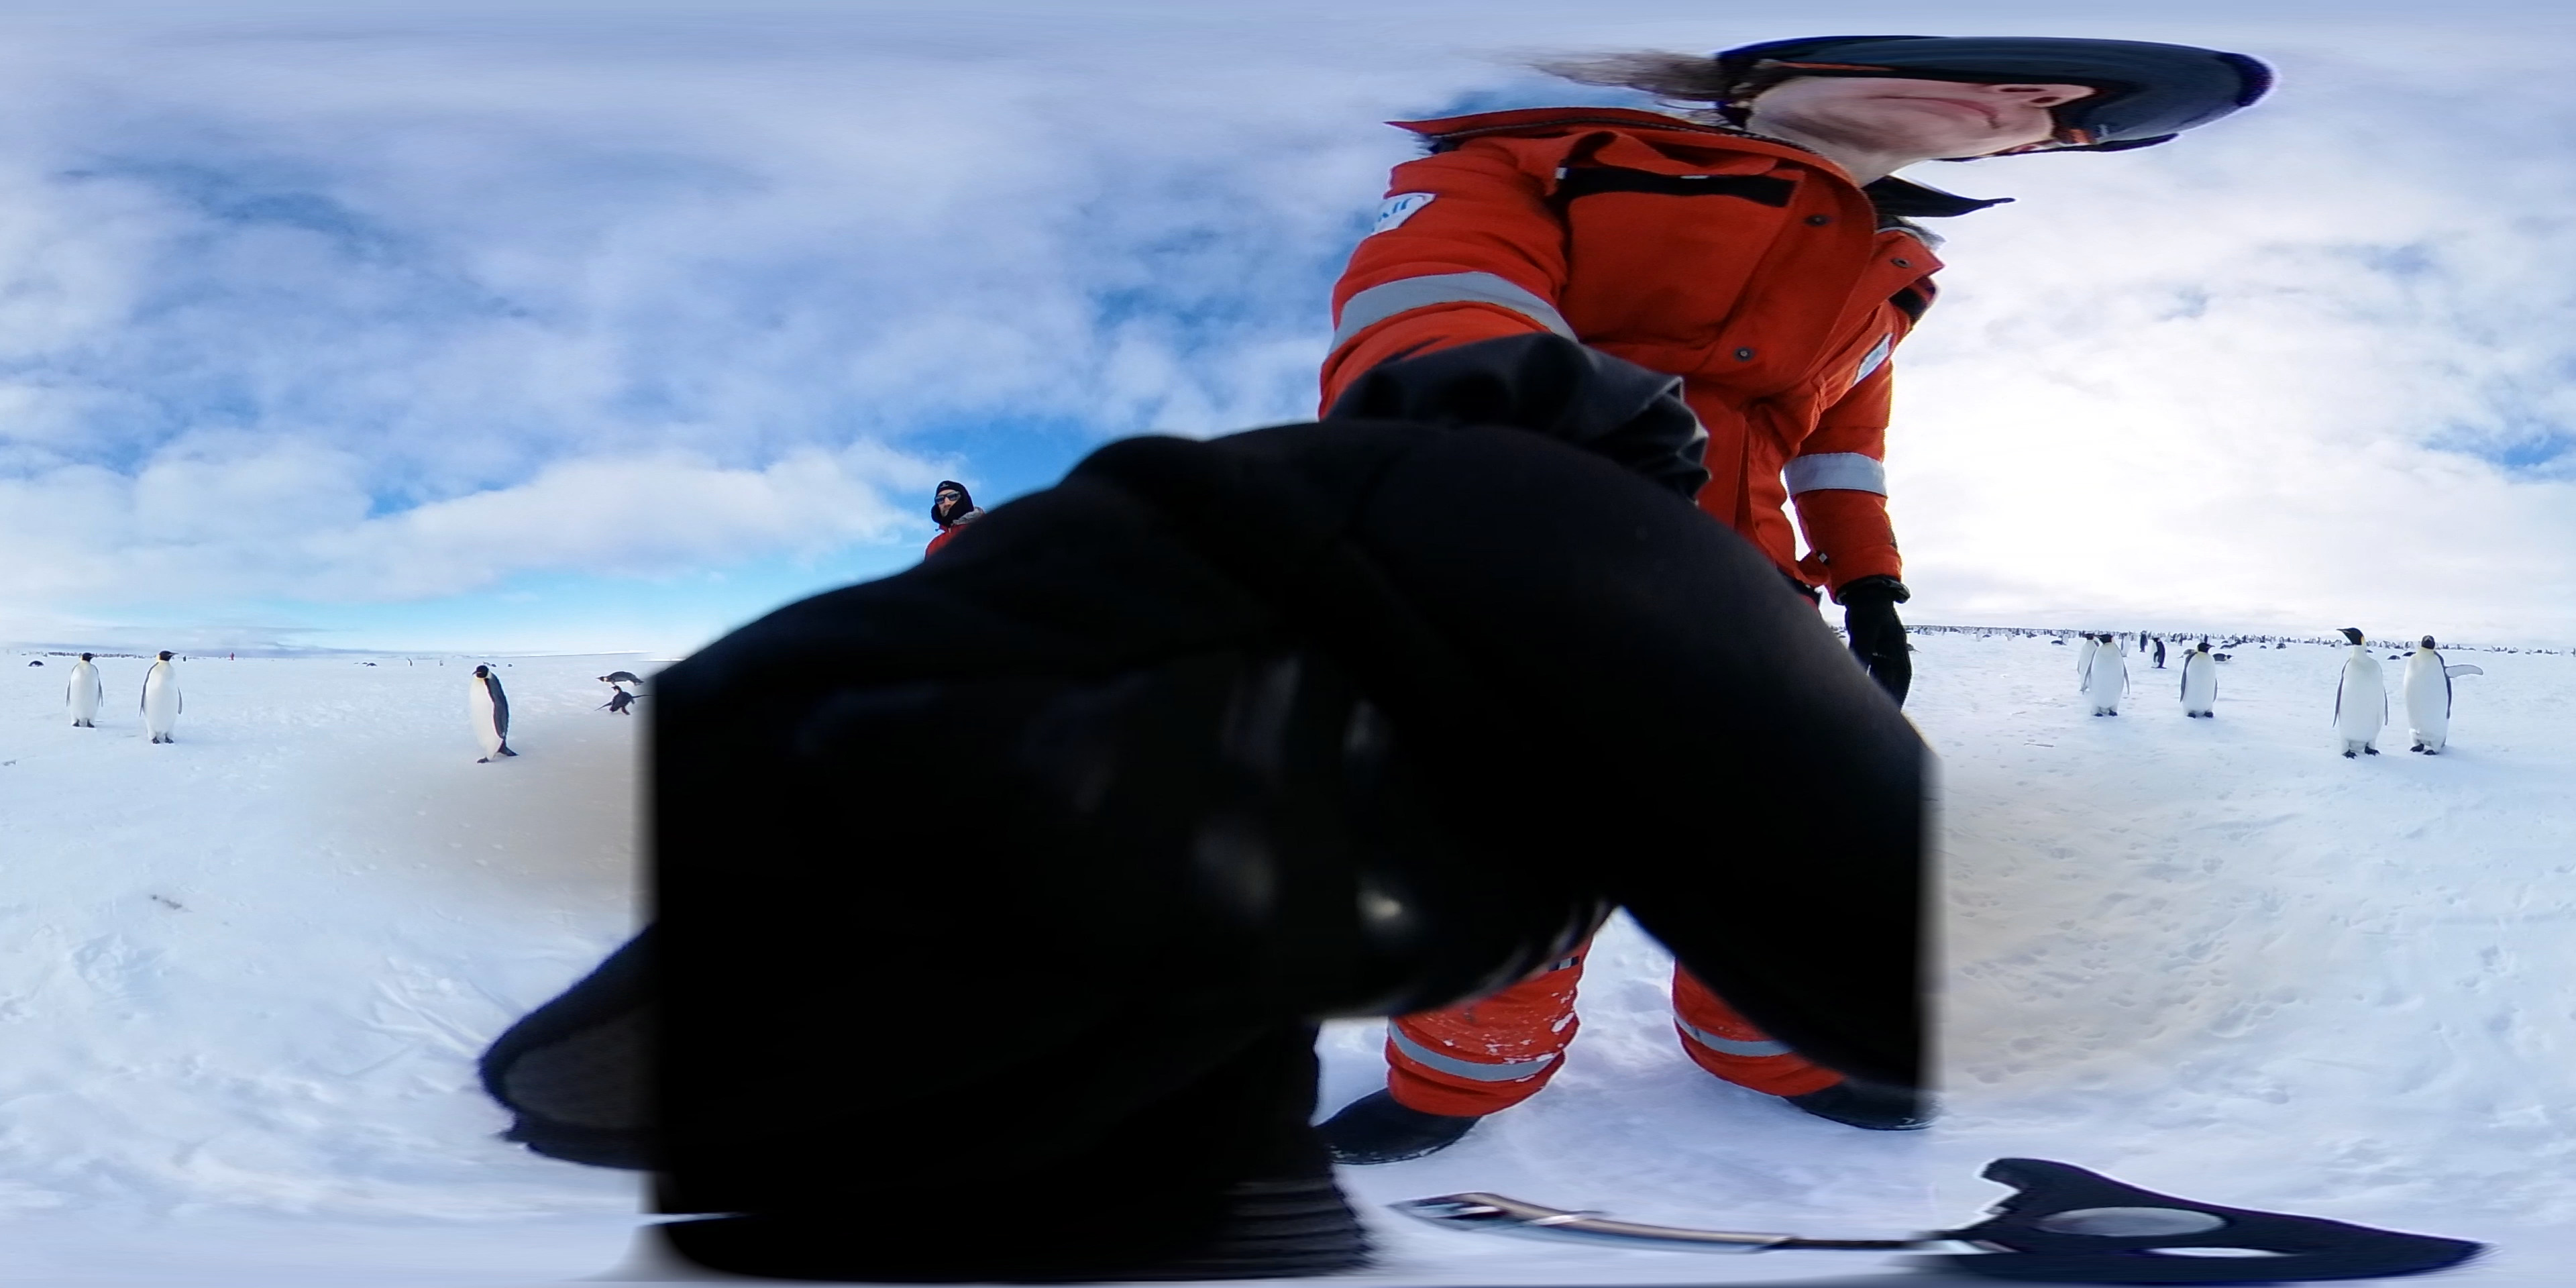adult_standing_penguin: (2402, 632, 2489, 759), (2328, 626, 2394, 757), (131, 649, 191, 746), (468, 662, 521, 770), (2083, 631, 2131, 720), (64, 651, 107, 731), (2178, 641, 2221, 721), (2078, 632, 2098, 690), (2147, 637, 2167, 672)
adult_toboggan_penguin: (593, 683, 651, 716), (593, 672, 647, 688), (2210, 651, 2234, 665)
researcher: (1263, 33, 2295, 1184), (923, 480, 996, 567)
